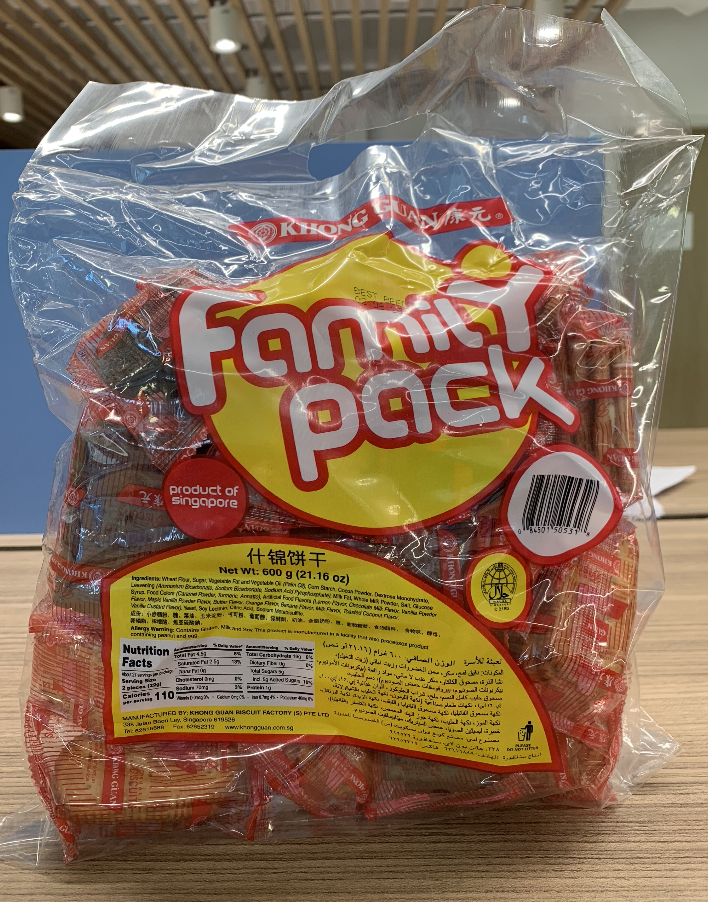cookies_450g: (112, 214, 612, 731)
